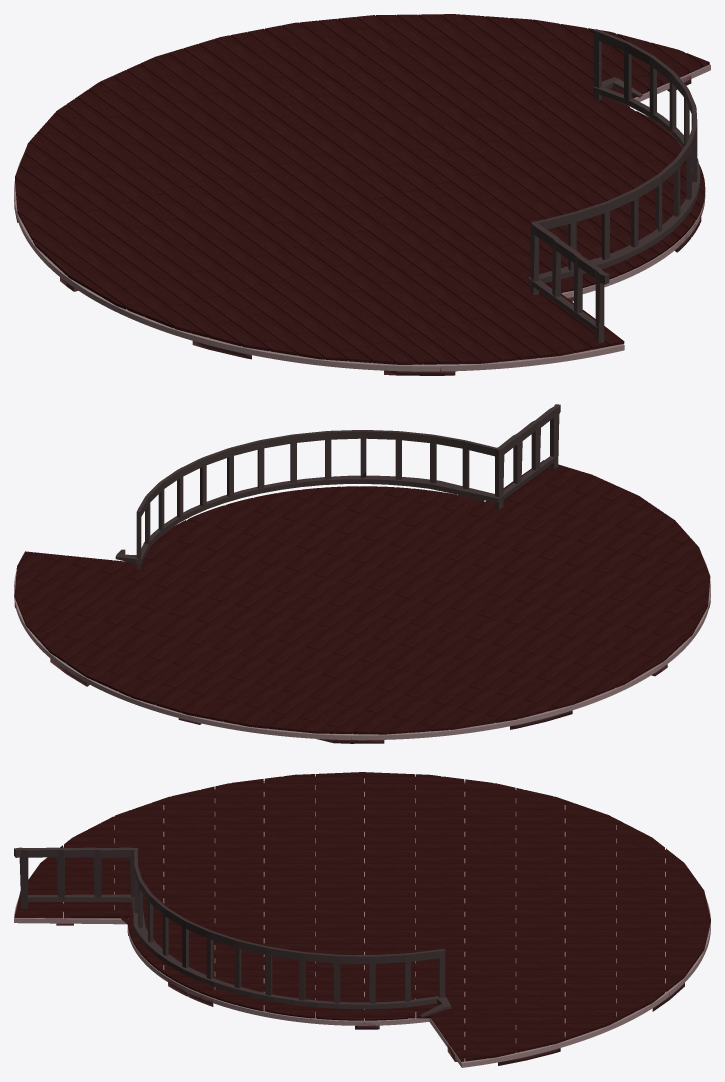
The model's file is Middle-Floor.fbx.
3 views of the same model, one above another, from view 1: azimuth 30°, elevation 25°; view 2: azimuth 150°, elevation 25°; view 3: azimuth 270°, elevation 25° (orthographic). The views are drawn at different scales.
Visible parts, largest first — view 1: !, Left, Cylinder.030, Railing.001, Railing, Railing-4, Railing-2.001, Railing-3, Grid, Center; view 2: !, Cylinder.030, Right, Railing.001, Railing, Railing-2.001, Railing-3, Left, Railing-4, Grid; view 3: !, Cylinder.030, Railing.001, Center, Right, Railing-4, Railing-3, Railing-2.001, Left, Railing, Grid.
Part boxes in pixels (box(x1,y1,x2,y2)): !: box(15, 14, 709, 364); Left: box(14, 158, 624, 371); Cylinder.030: box(528, 77, 700, 332); Railing.001: box(530, 221, 609, 343); Railing: box(536, 176, 658, 270); Railing-4: box(593, 29, 675, 131); Railing-2.001: box(655, 126, 696, 232); Railing-3: box(672, 74, 697, 181); Grid: box(14, 75, 701, 375); Center: box(561, 192, 705, 298); !: box(14, 460, 710, 734); Cylinder.030: box(115, 455, 557, 563); Right: box(14, 571, 475, 740); Railing.001: box(495, 404, 560, 508); Railing: box(366, 430, 496, 489); Railing-2.001: box(263, 430, 366, 483); Railing-3: box(181, 439, 264, 506); Left: box(475, 558, 710, 731); Railing-4: box(136, 468, 183, 569); Grid: box(14, 601, 710, 743); !: box(14, 772, 710, 1061); Cylinder.030: box(27, 894, 451, 1017); Railing.001: box(14, 847, 138, 909); Center: box(127, 823, 565, 1025); Right: box(429, 825, 710, 1067); Railing-4: box(334, 949, 445, 1003); Railing-3: box(234, 939, 334, 1000); Railing-2.001: box(162, 906, 235, 979); Left: box(14, 776, 565, 924); Railing: box(134, 850, 165, 942); Grid: box(56, 923, 684, 1065).
Bounding box in the file's own units: 1371 × 239 × 1400.
